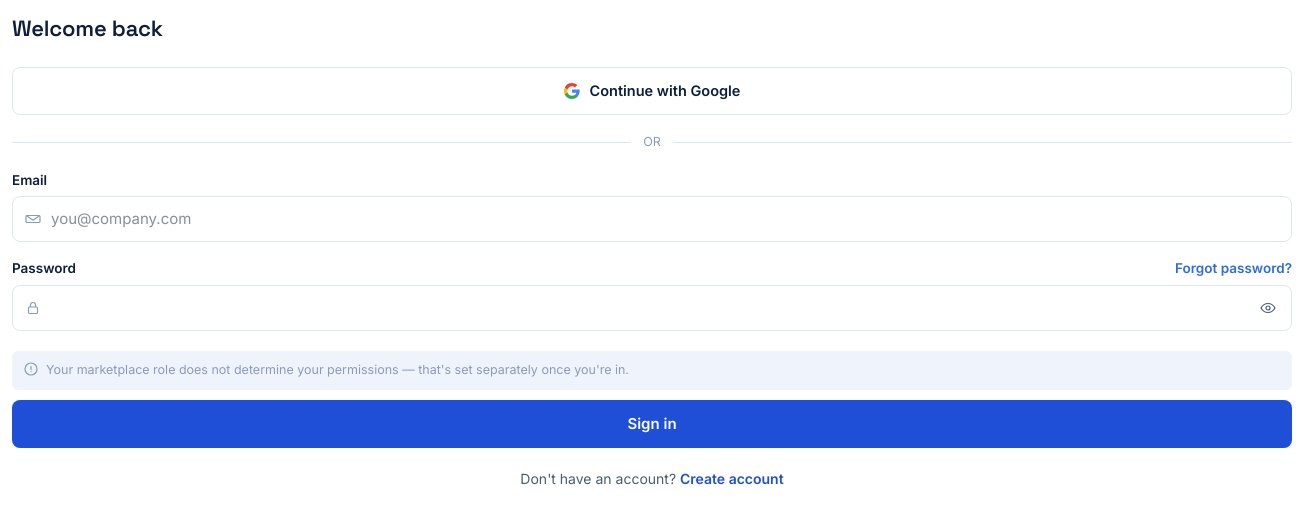
Scenario: Sign-in › incorrect password keeps the existing field error
Type "a@example.com" into the field labelled "Email". click: (652, 219)
box: [12, 196, 1292, 242]
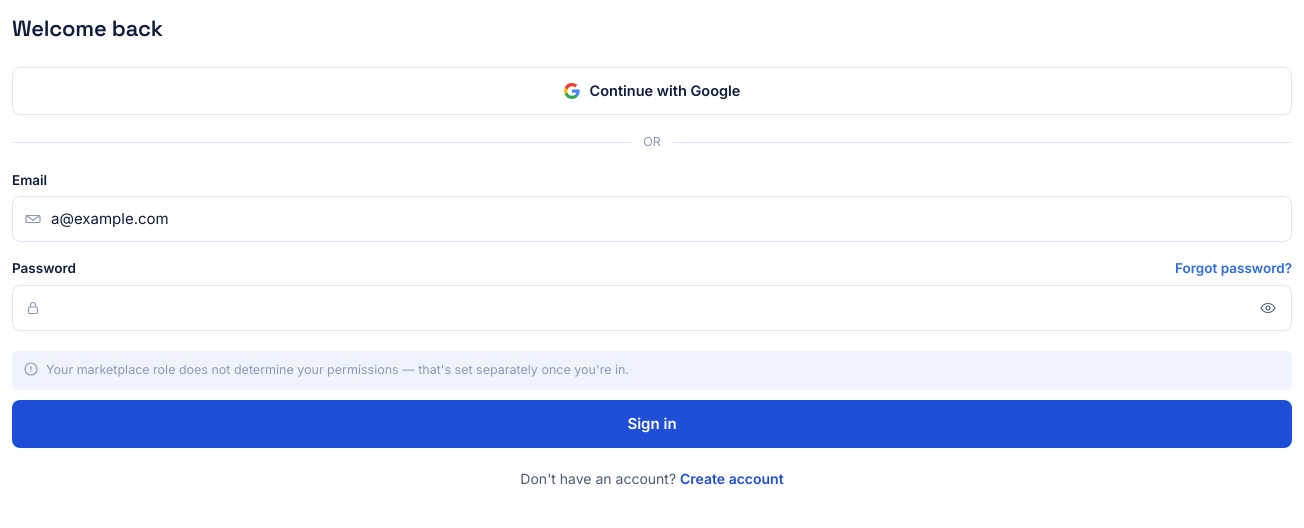
Type "wrong" into the password field labelled "Password". click: (652, 308)
box: [12, 284, 1292, 331]
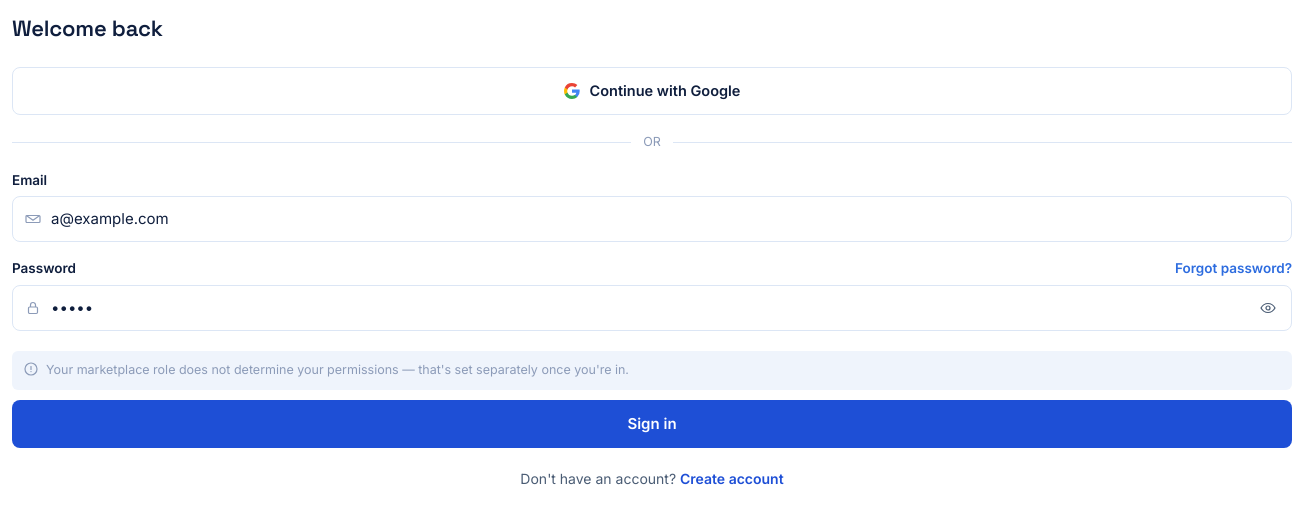
Click the button "Sign in". click: (652, 424)
box: [12, 400, 1292, 448]
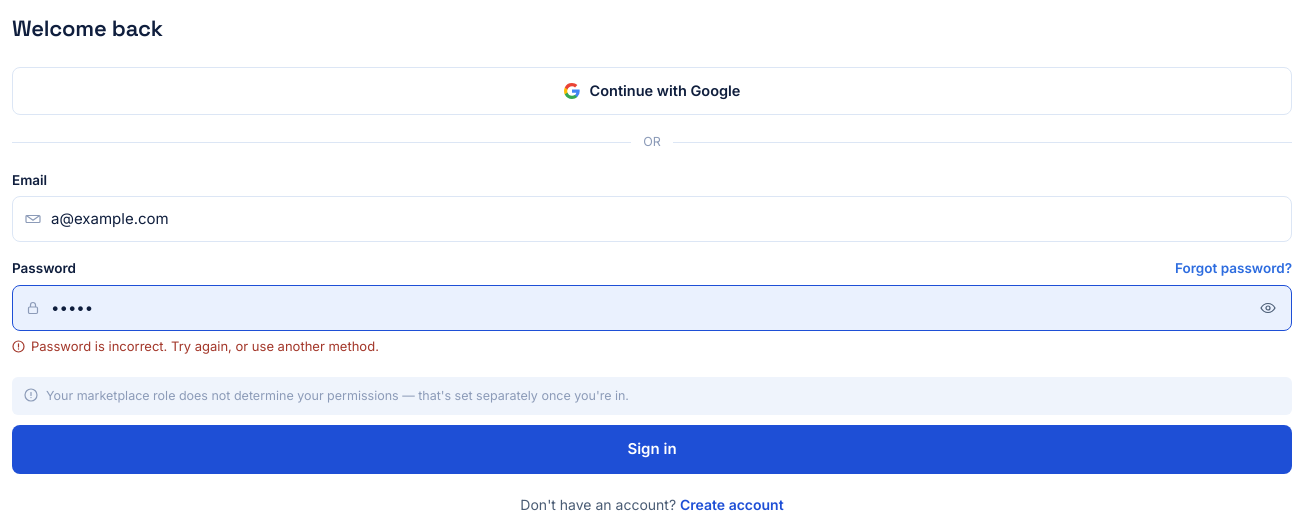
Now the text "Password is incorrect. Try again, or use another method." is shown, box [31, 337, 379, 356]
